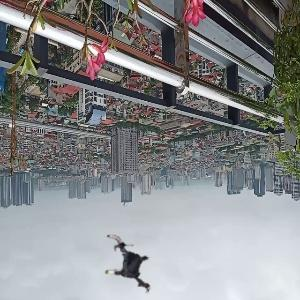drone: (96, 231, 165, 300)
